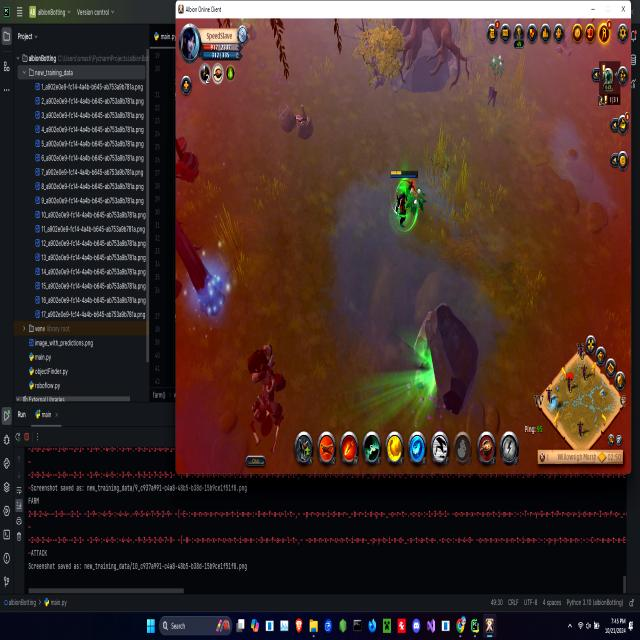hide: (488, 48, 506, 96), (405, 184, 426, 221)
ore: (245, 339, 292, 434)
red: (389, 166, 422, 237)
wisp caged: (175, 219, 227, 321)
